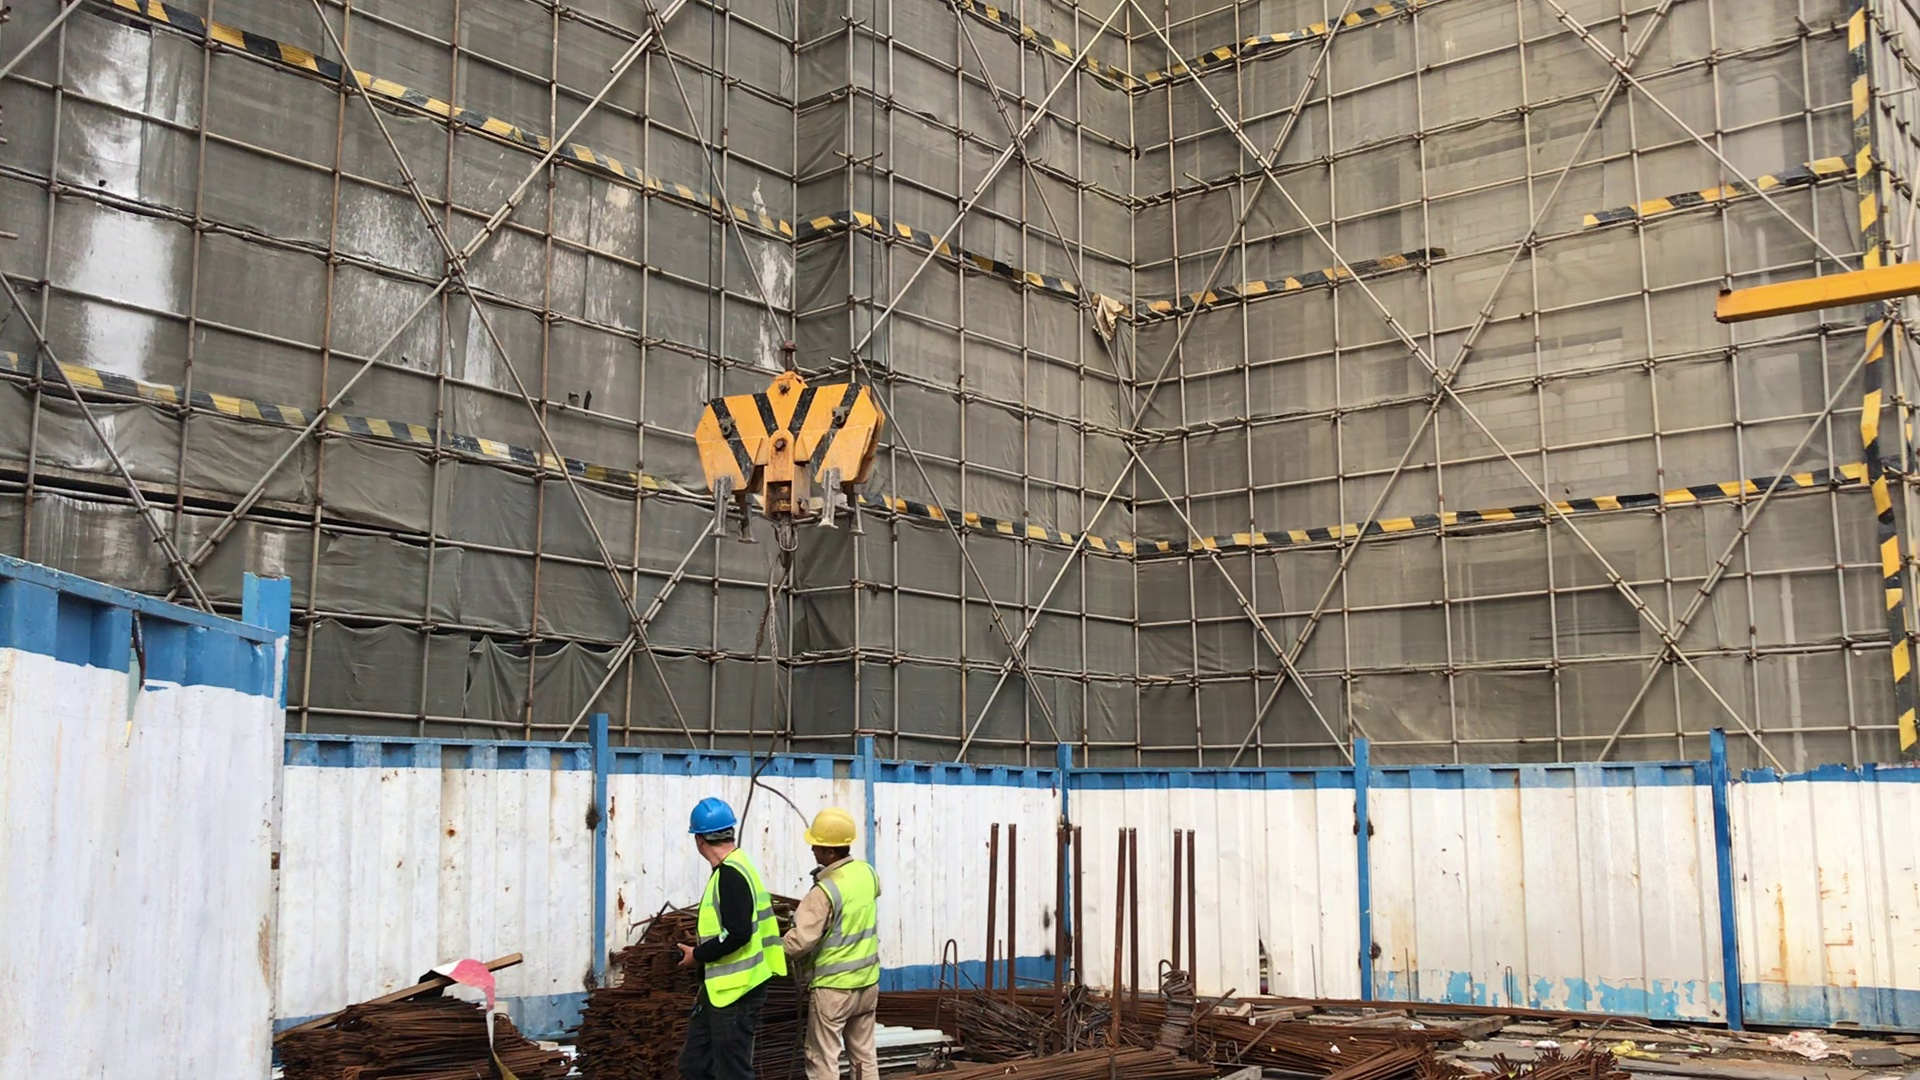helmet: (805, 808, 861, 848), (684, 799, 741, 833)
hook: (670, 346, 894, 545)
person: (663, 793, 796, 1080), (784, 806, 916, 1080)
vest: (693, 864, 785, 1008), (807, 868, 891, 985)
